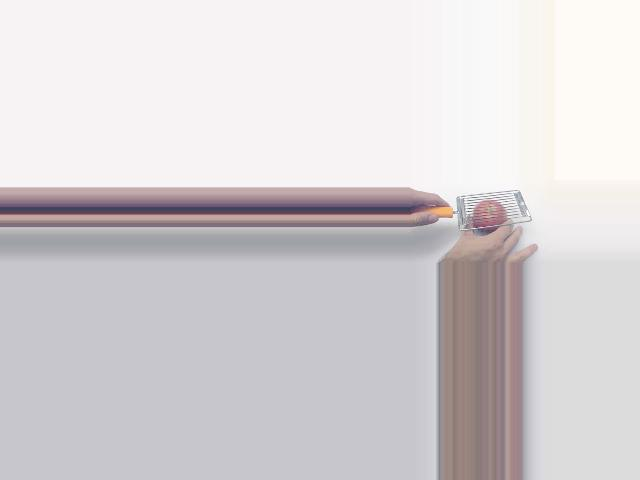tomato: (471, 200, 505, 232)
